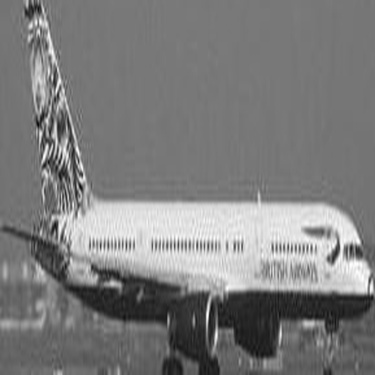airplane: (1, 6, 369, 371)
